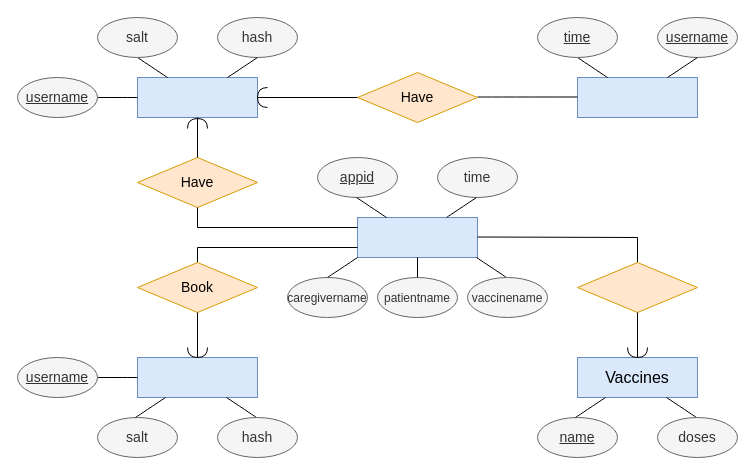
This 755x475 diagram has some shape labels left out. The shapes that lost their labels are listed below. From the top down, each one's box as (x1, y1, x2, y2) in pixels, then its label:
(136, 76, 258, 118): Caregivers
(576, 76, 698, 118): Availabilities
(356, 216, 478, 258): Reservations
(576, 262, 698, 312): Use
(136, 356, 258, 398): Patients
